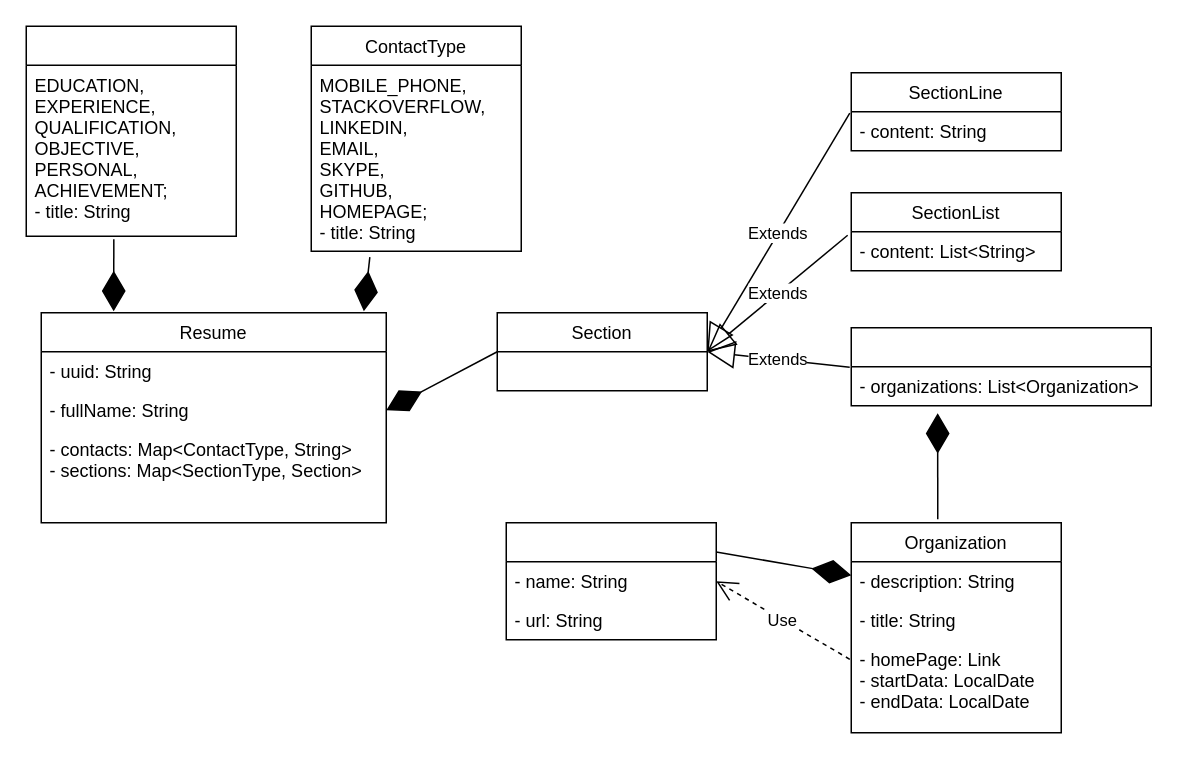
Some shapes in this 1178 by 764 pixel diagram are drawn without their labels. Each missing label, with the box of its shape:
Link: (505, 521, 716, 640)
SectionOrganization: (850, 326, 1151, 406)
SectionType: (25, 25, 236, 236)
